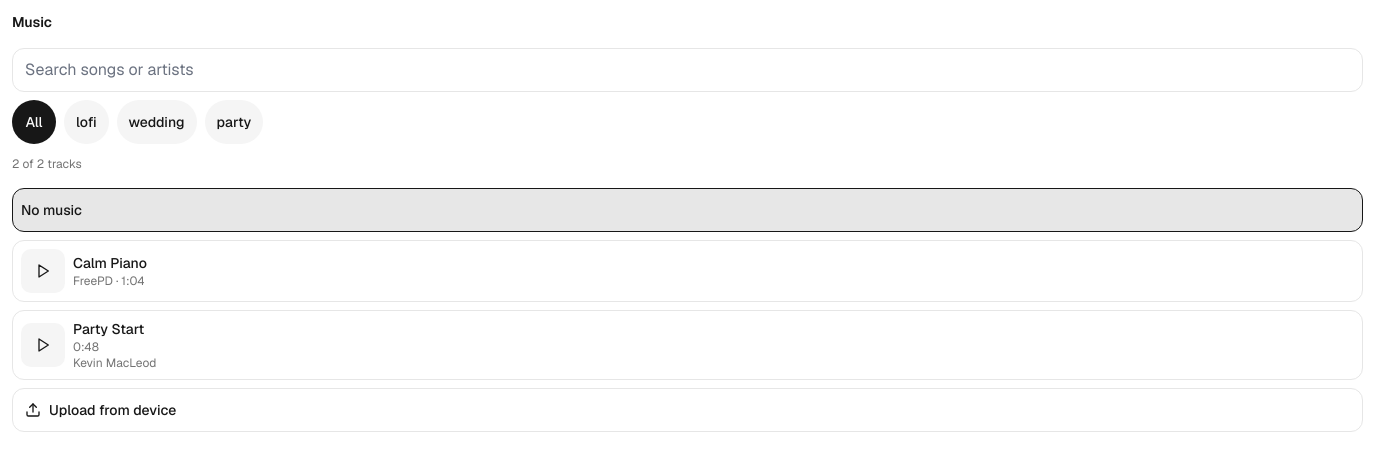
Test: MusicPicker › keeps the new track active when the superseded play() rejects
Click the button named "Play Calm Piano". click: (43, 271)
box: [21,249,65,293]
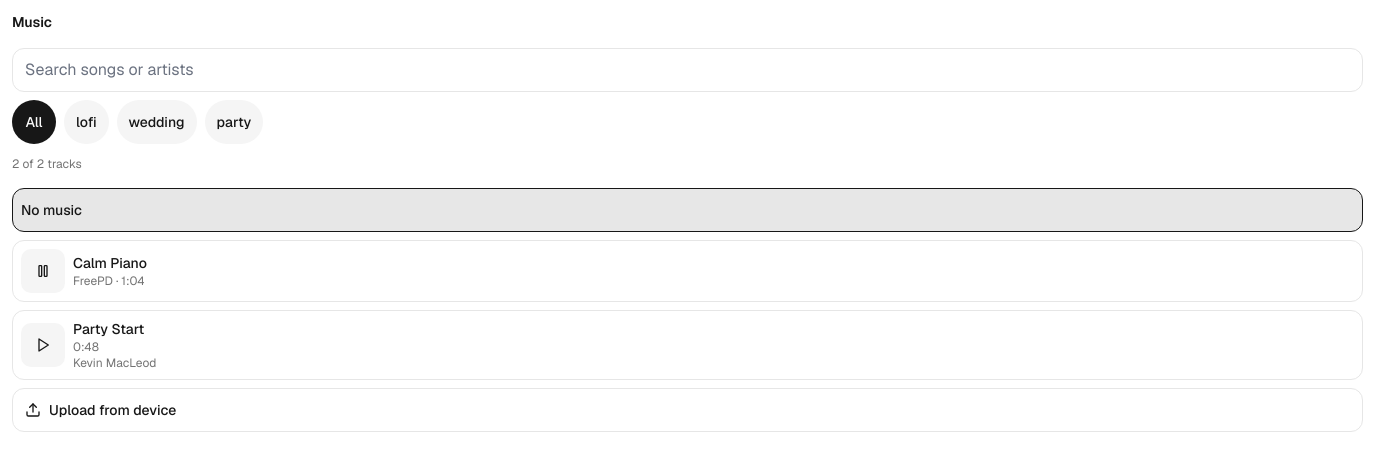
Click the button named "Play Party Start". click: (43, 345)
box: [21,323,65,367]
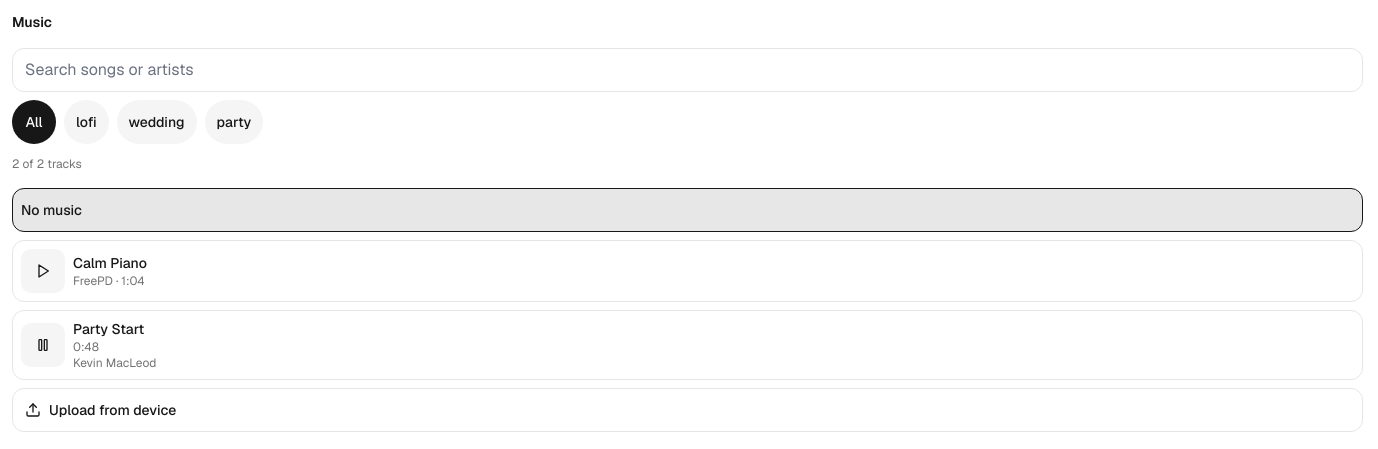
Check: the button named "Pause Party Start" is shown, box [21,323,65,367]
